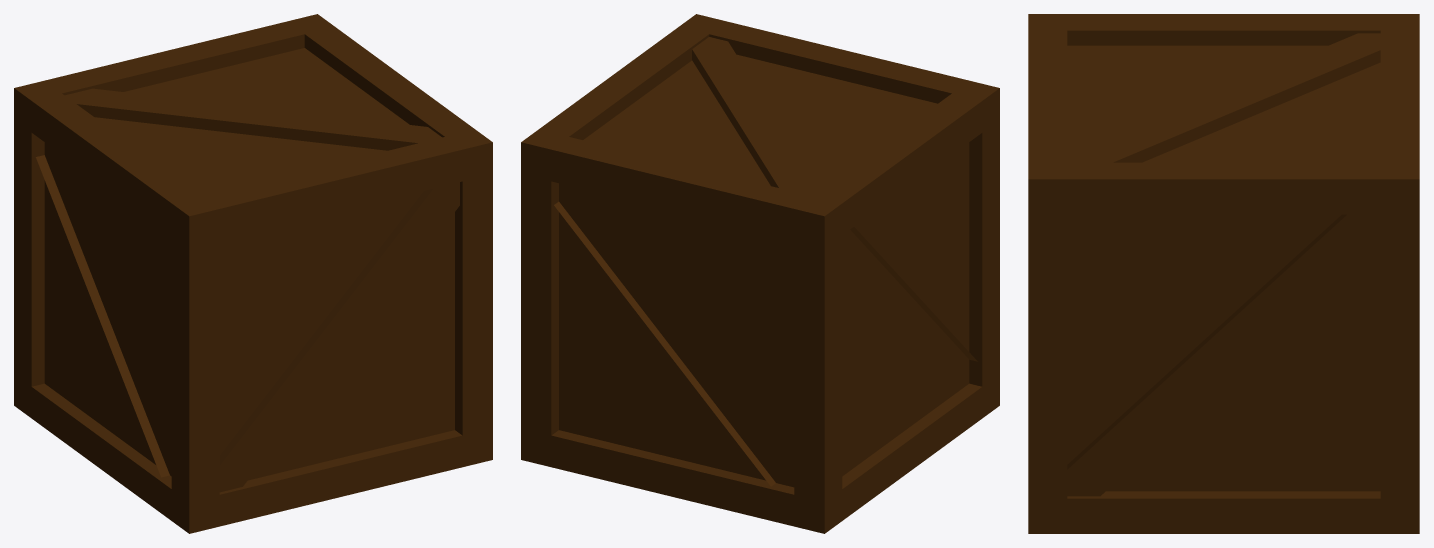
3 renders of one model, left to right at view 1: azimuth 30°, elevation 25°; view 2: azimuth 150°, elevation 25°; view 3: azimuth 270°, elevation 25°, orthographic. The views are drawn at different scales.
Visible parts, largest first — view 1: Cube; view 2: Cube; view 3: Cube.
Boxes of the visible parts, <box> form: Cube: <box>14,14,492,533</box>; Cube: <box>521,14,999,533</box>; Cube: <box>1028,14,1419,533</box>.
Bounding box in the file's own units: 200 × 200 × 200.
